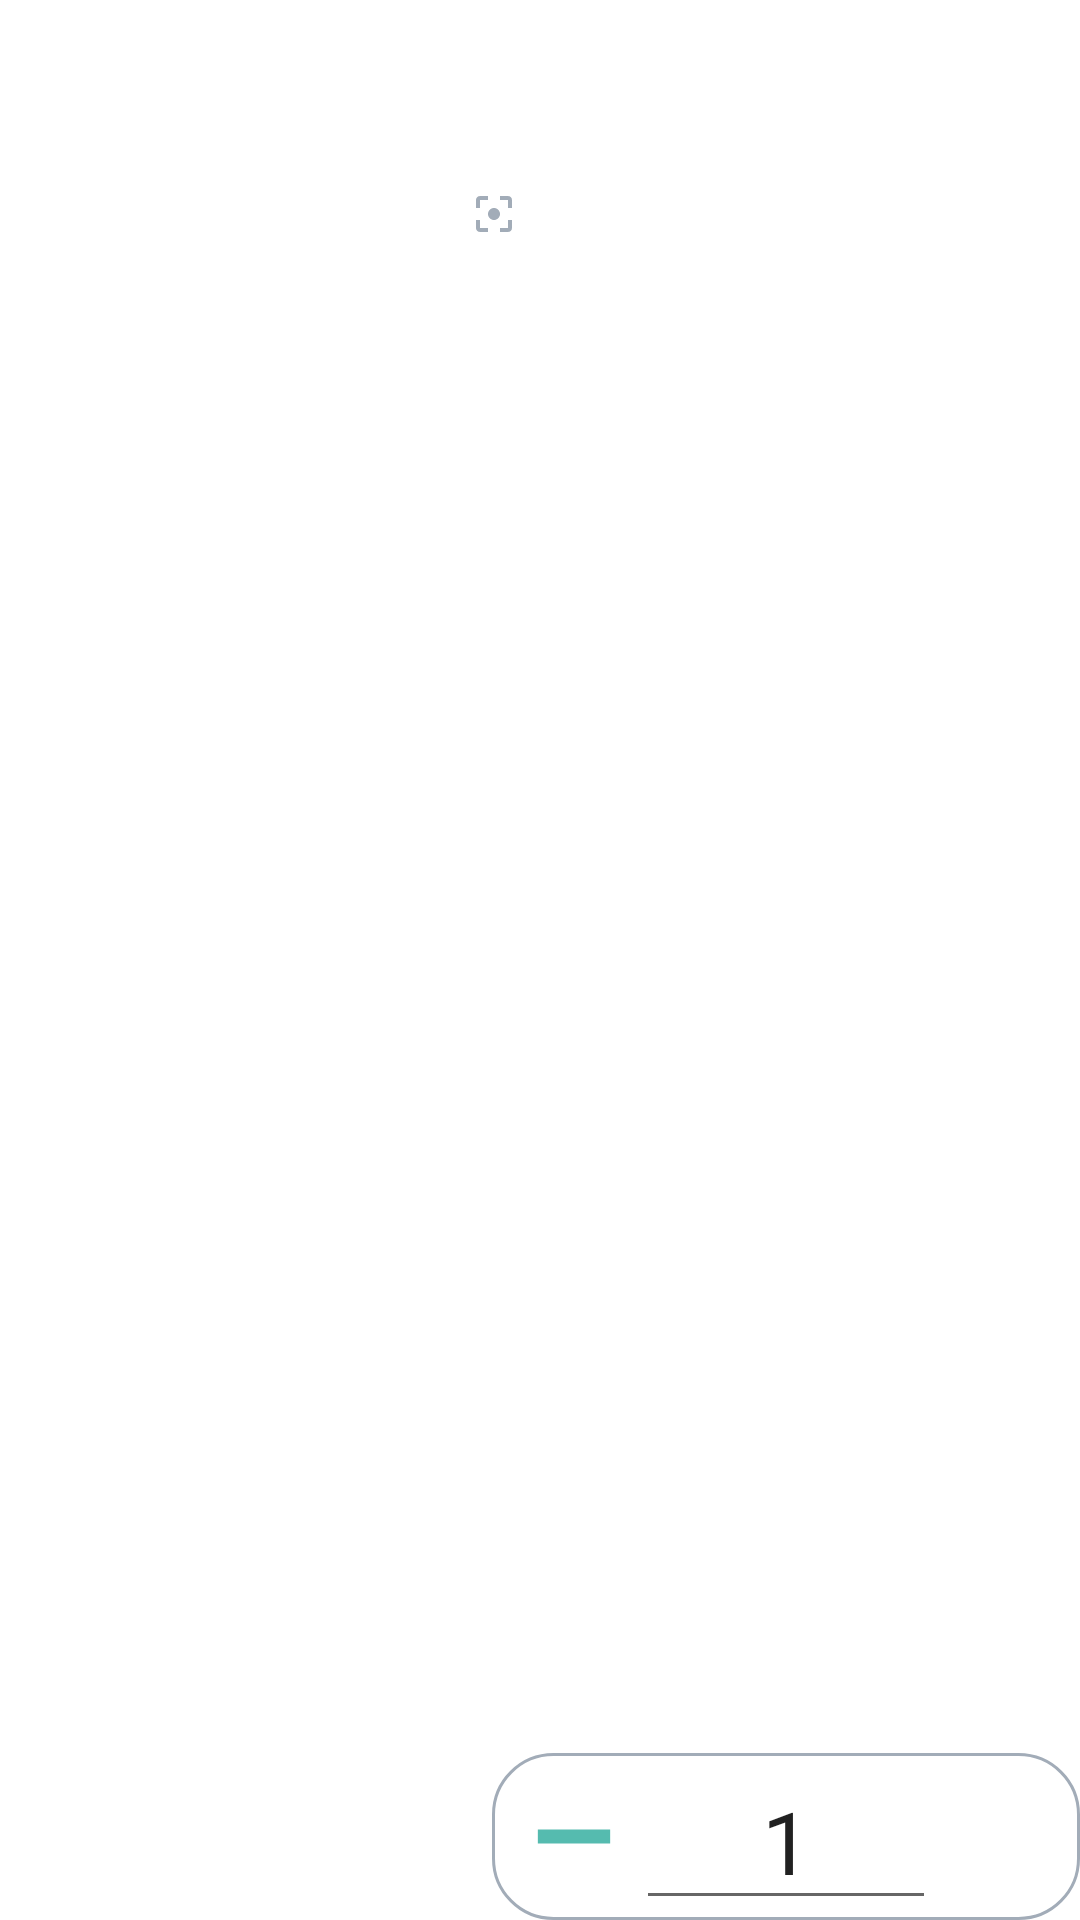

Screen size 1080px×1920px. Icon name, then its box in pixels as (x1, y1, x2, y2):
remove: (537, 1829, 611, 1844)
